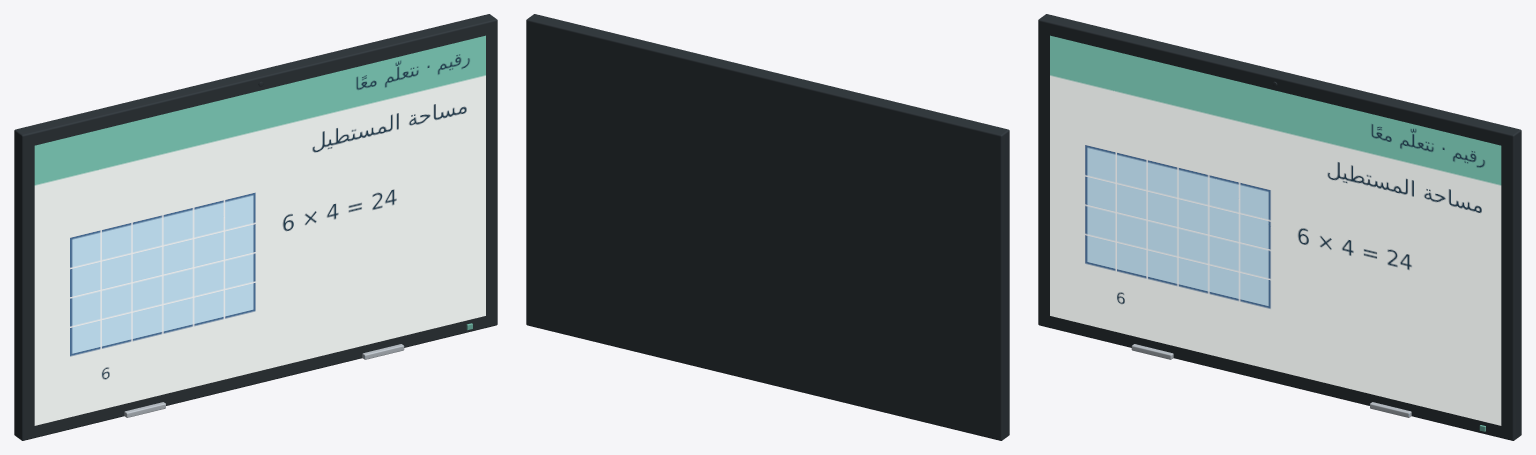
Rendered from smart_board.glb.
3 renders of one model, left to right at view 1: azimuth 30°, elevation 25°; view 2: azimuth 150°, elevation 25°; view 3: azimuth 330°, elevation 25°, orthographic.
Visible parts, largest first — view 1: Smart_Display, Smart_Board_Frame; view 2: Smart_Board_Frame; view 3: Smart_Display, Smart_Board_Frame.
Boxes of the visible parts, x1,y1,x2,y2 form: Smart_Display: (34,35,485,425); Smart_Board_Frame: (14,14,497,440); Smart_Board_Frame: (526,14,1009,440); Smart_Display: (1050,35,1501,425); Smart_Board_Frame: (1038,14,1521,440).
Bounding box in the file's own units: 1.92 × 1.18 × 0.098.
Materials: 5 (1 with a texture image).
